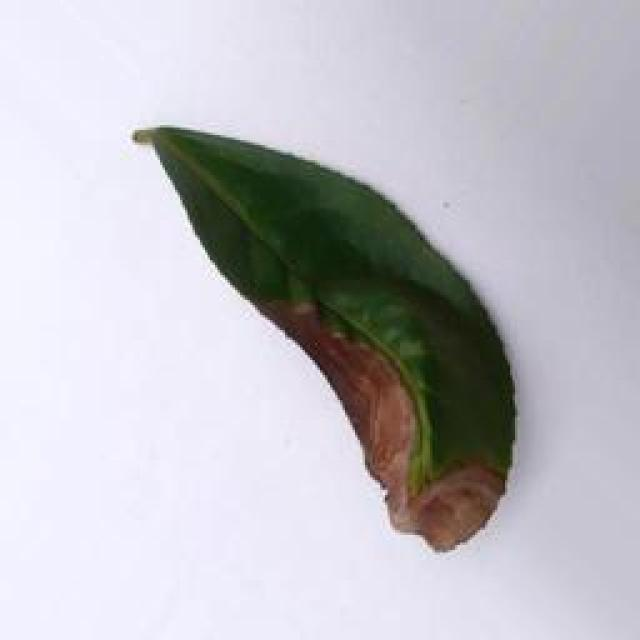Brown Blight: (126, 125, 520, 570)
